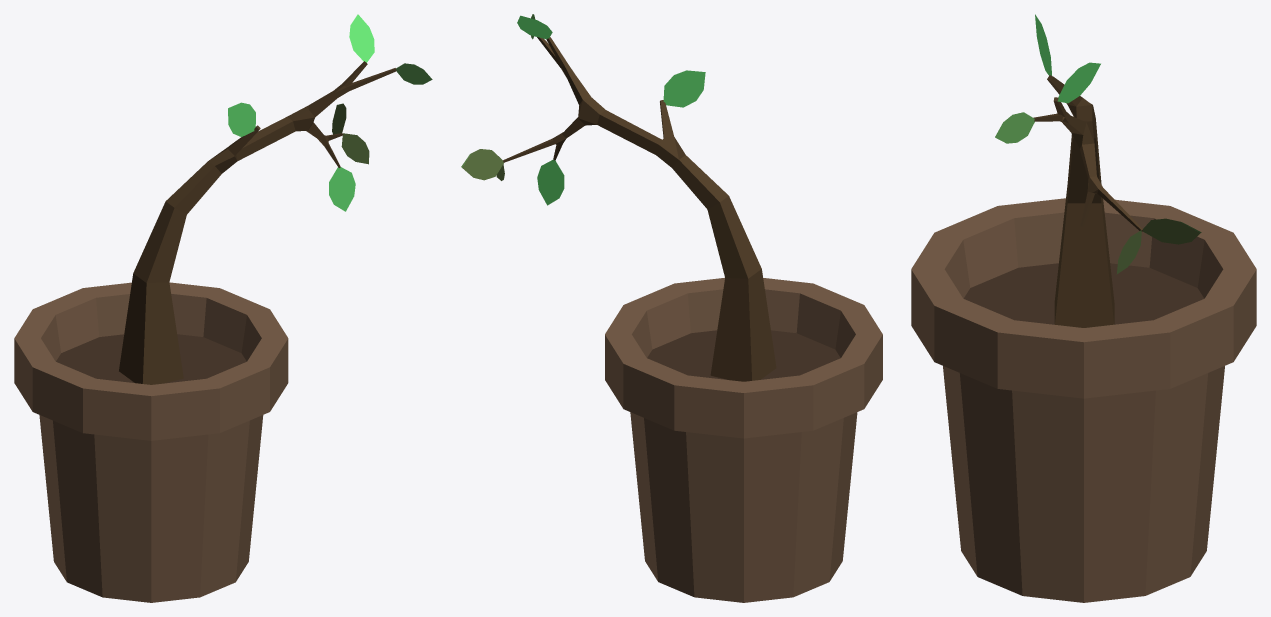
The model's file is Living plant.fbx.
3 views of the same model, side by side, from view 1: azimuth 30°, elevation 25°; view 2: azimuth 150°, elevation 25°; view 3: azimuth 270°, elevation 25° (orthographic). The views are drawn at different scales.
Parts seen in each view (by area): view 1: Living plant; view 2: Living plant; view 3: Living plant.
Boxes of the visible parts, x1,y1,x2,y2 form: Living plant: (14,14,432,602); Living plant: (461,14,882,602); Living plant: (911,14,1256,602).
Bounding box in the file's own units: 193 × 248 × 126.
